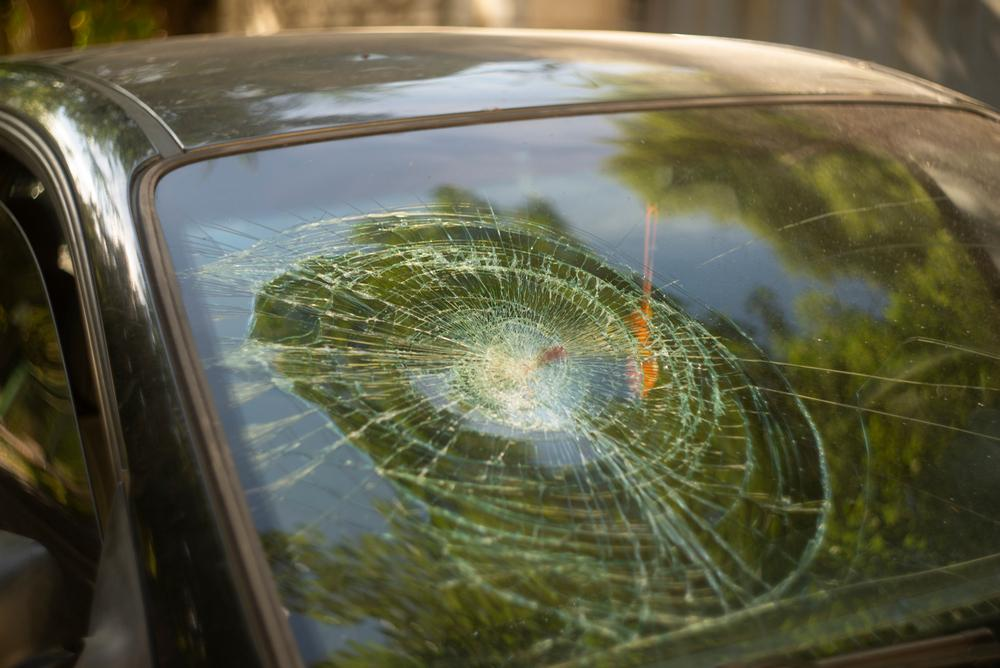glass shatter: (154, 102, 1000, 668)
